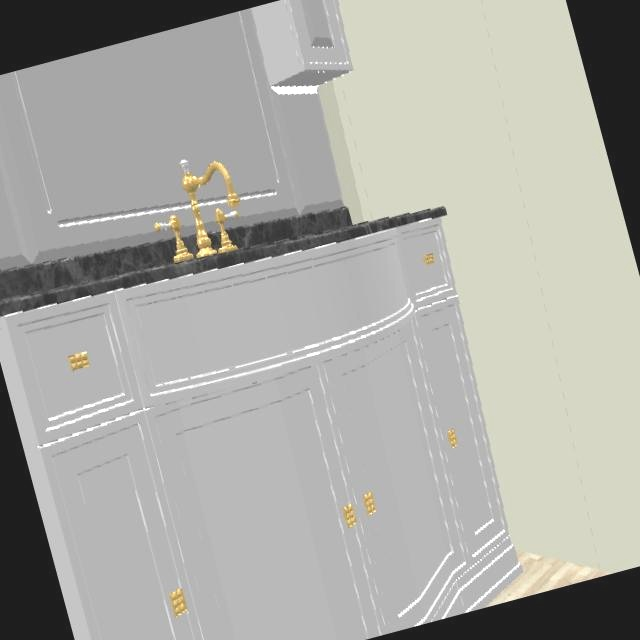cabinet: (0, 206, 522, 640), (249, 0, 355, 93)
sink: (180, 160, 239, 253), (155, 217, 192, 261)
